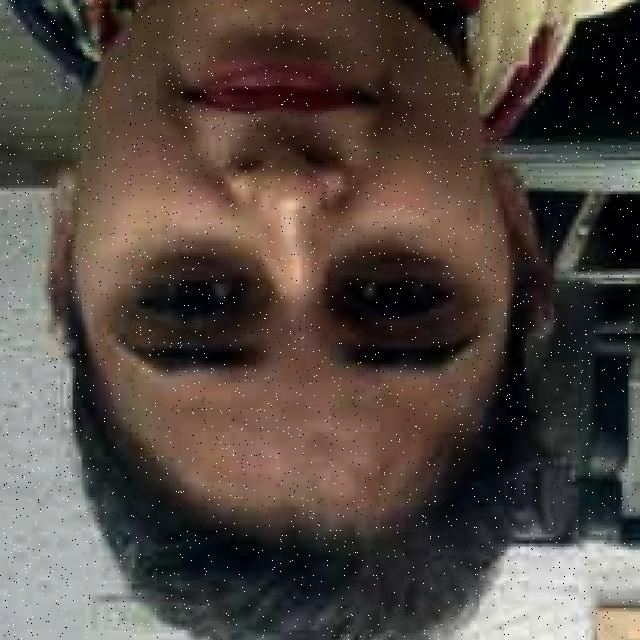puffy_eyes: (355, 260, 450, 286), (148, 259, 238, 282)
